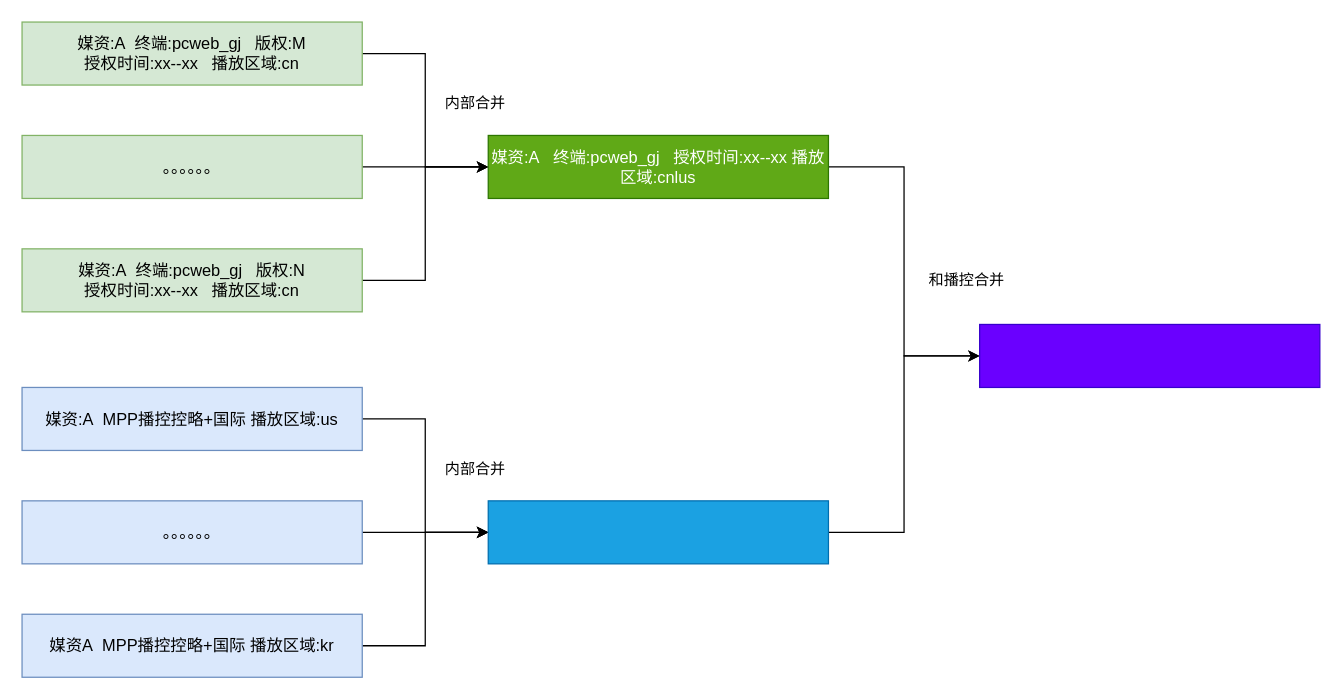
This 1342x699 diagram has some shape labels left out. The box of each missing label's shape, as (x1, y1, x2, y2) in pixels:
媒资:A MPP播控策略 播放区域:uslkr: (487, 500, 828, 564)
媒资:A 平台:pcweb_gj 授权时间:xx--xx 播放区域:us: (978, 323, 1320, 387)
